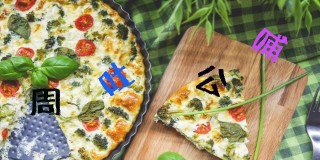公: (195, 65, 227, 97)
吐: (98, 62, 136, 96)
周: (31, 87, 61, 115)
哺: (251, 28, 288, 62)
